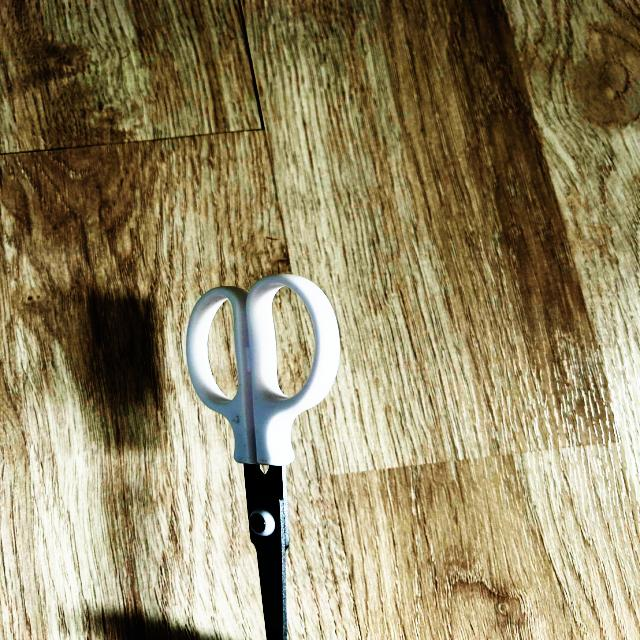Scissors: (187, 273, 339, 640)
